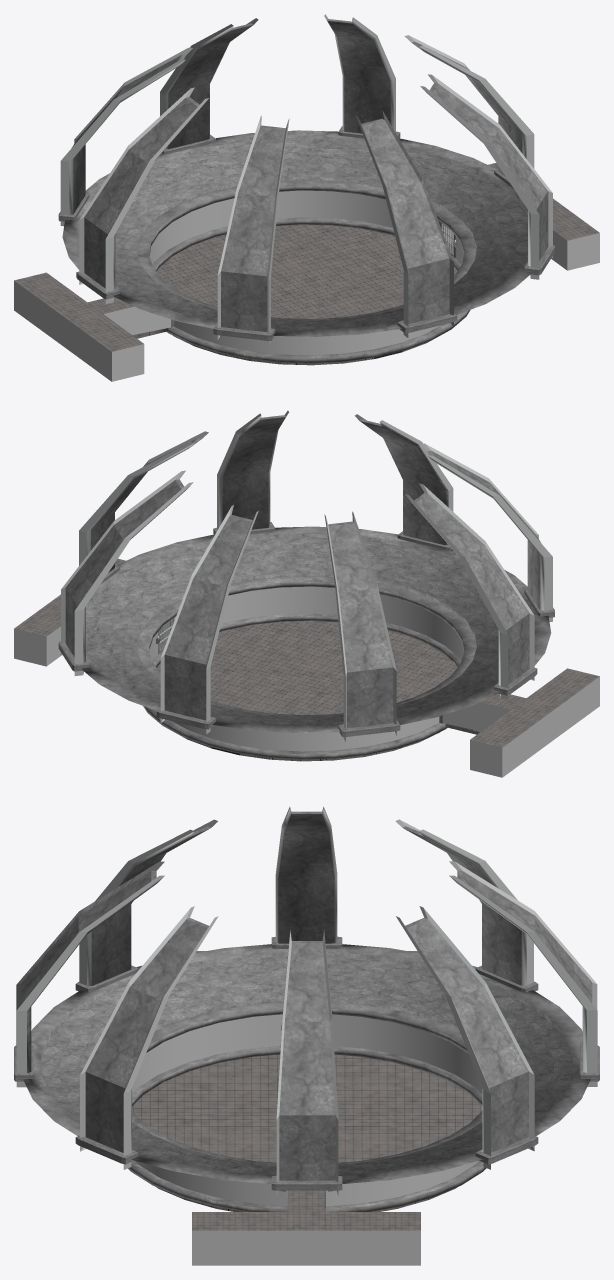
File: arena.fbx
3 renders of one model, top to bottom at view 1: azimuth 30°, elevation 25°; view 2: azimuth 150°, elevation 25°; view 3: azimuth 270°, elevation 25°, orthographic. The views are drawn at different scales.
Parts seen in each view (by area): view 1: Circle.003, Circle, Circle.005, Circle.001, Circle.002, Cube.002, Cube.004, Cube.003, Cube.001; view 2: Circle.003, Circle, Circle.005, Circle.001, Circle.002, Cube.002, Cube.003, Cube.004, Cube.001; view 3: Circle.003, Circle, Circle.001, Circle.005, Circle.002, Cube.004, Cube.003, Cube.001, Cube.002.
Boxes of the visible parts, <box> form: Circle.003: <box>60,14,552,345</box>; Circle: <box>156,224,456,365</box>; Circle.005: <box>14,163,599,381</box>; Circle.001: <box>149,190,463,355</box>; Circle.002: <box>152,217,470,363</box>; Cube.002: <box>162,134,457,333</box>; Cube.004: <box>213,126,400,340</box>; Cube.003: <box>58,192,554,275</box>; Cube.001: <box>76,169,513,299</box>; Circle.003: <box>61,410,552,741</box>; Circle: <box>157,620,456,761</box>; Circle.005: <box>14,558,599,777</box>; Circle.001: <box>149,586,463,751</box>; Circle.002: <box>143,613,461,759</box>; Cube.002: <box>156,531,451,729</box>; Cube.003: <box>213,522,400,736</box>; Cube.004: <box>58,588,554,671</box>; Cube.001: <box>101,565,537,695</box>; Circle.003: <box>16,806,597,1195</box>; Circle: <box>132,1054,482,1211</box>; Circle.001: <box>132,1014,482,1206</box>; Circle.005: <box>192,951,420,1265</box>; Circle.002: <box>128,1046,486,1211</box>; Cube.004: <box>75,965,538,1164</box>; Cube.003: <box>75,965,538,1164</box>; Cube.001: <box>271,936,342,1190</box>; Cube.002: <box>14,1045,599,1081</box>.
Bounding box in the file's own units: 3452 × 1549 × 3058.
